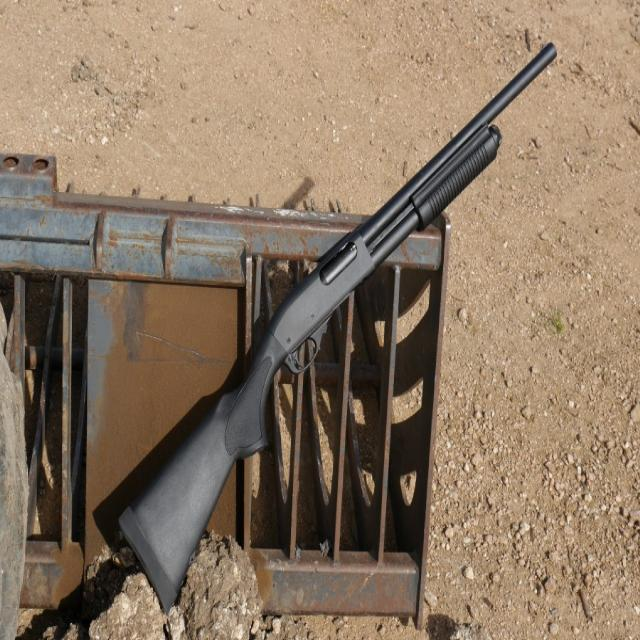ShotGun: (95, 45, 558, 614)
